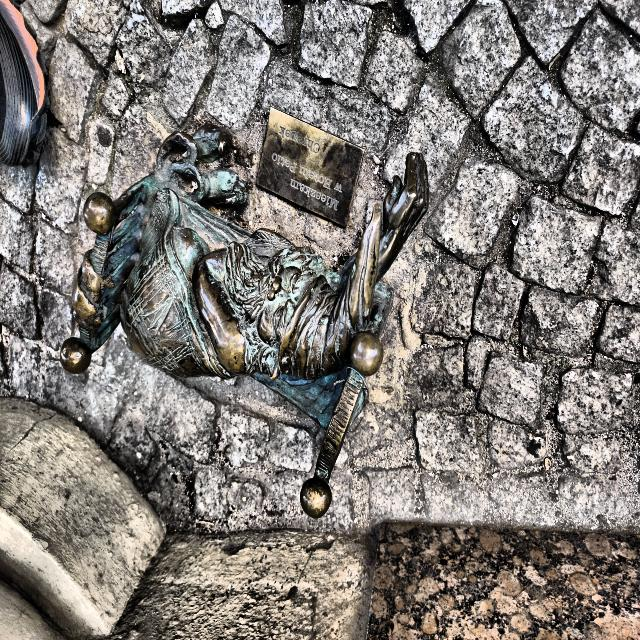Chrapek: (61, 127, 429, 518)
